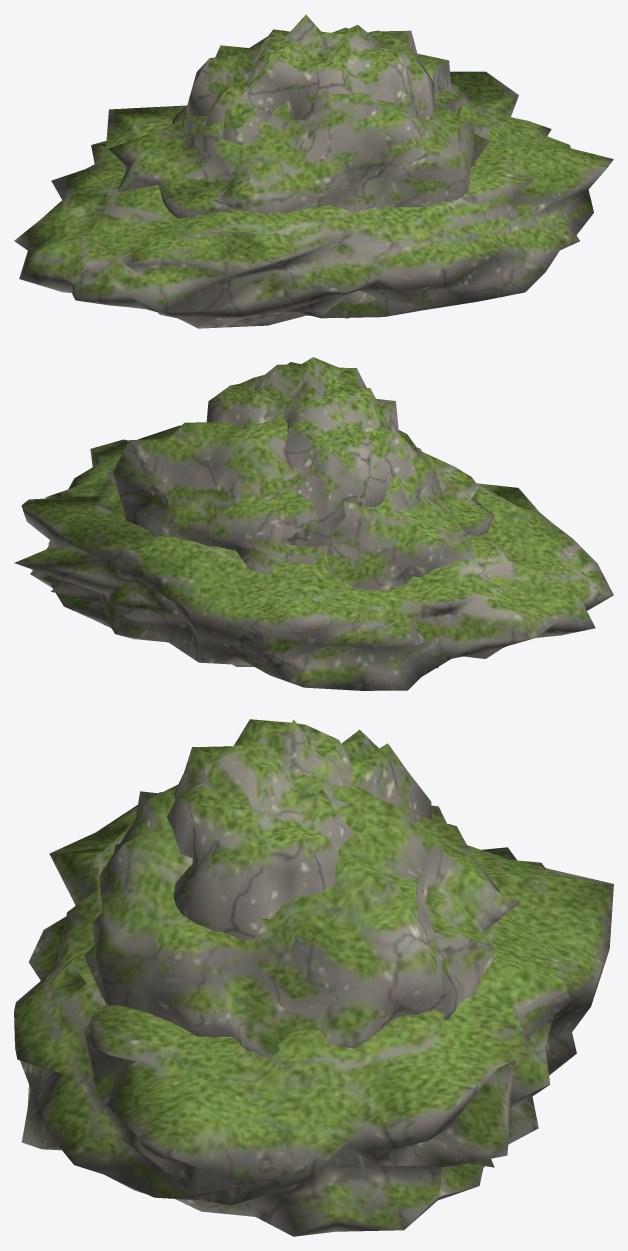
Rendered from rocks.glb.
3 renders of one model, top to bottom at view 1: azimuth 30°, elevation 25°; view 2: azimuth 150°, elevation 25°; view 3: azimuth 270°, elevation 25°, orthographic. The views are drawn at different scales.
Visible parts, largest first — view 1: rock_b_LOD0, rock_a_LOD0, rock_c_LOD0; view 2: rock_b_LOD0, rock_a_LOD0, rock_c_LOD0; view 3: rock_b_LOD0, rock_a_LOD0, rock_c_LOD0.
Boxes of the visible parts, <box> form: rock_b_LOD0: <box>14,71,613,328</box>; rock_a_LOD0: <box>108,30,491,318</box>; rock_c_LOD0: <box>186,14,436,143</box>; rock_b_LOD0: <box>14,439,613,690</box>; rock_a_LOD0: <box>107,396,494,590</box>; rock_c_LOD0: <box>206,357,425,556</box>; rock_b_LOD0: <box>14,792,613,1236</box>; rock_a_LOD0: <box>83,774,520,1058</box>; rock_c_LOD0: <box>167,719,432,940</box>.
Size of what is drawn, in the model's own units: 4.56 by 1.98 by 3.02.
Materials: 1 (1 with a texture image).
